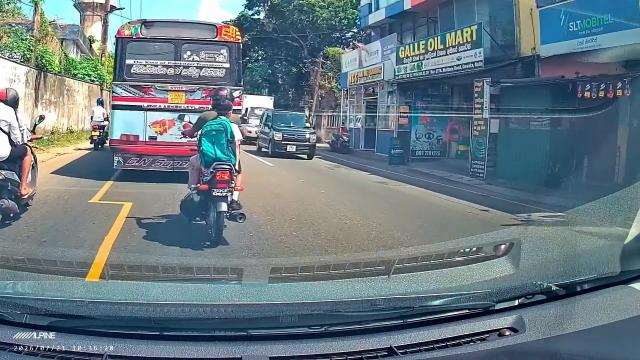illegal overtaking: (89, 96, 110, 153)
